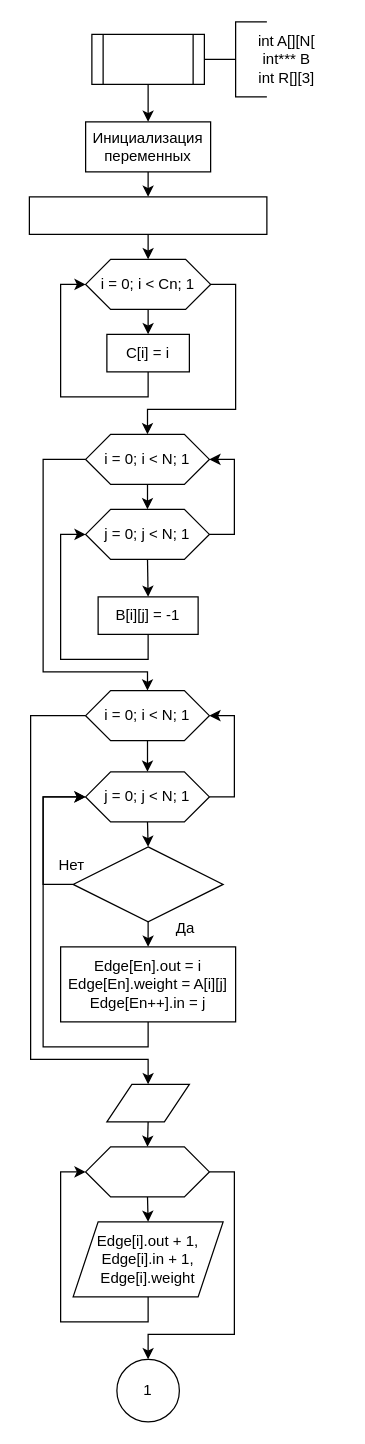
Some shapes in this 365 by 1444 pixel diagram are drawn without their labels. Here are the shapes that lost their labels. From the top down, the centre of each, then its label:
At [147,58]: "kruskal".
At [147,215]: "Edge = new edge[N * (N - 1) / 2]".
At [147,884]: "A[i][j] существует и A[i][j] != inf".
At [147,1102]: "En".
At [146,1171]: "i = 0; i < En; 1".
